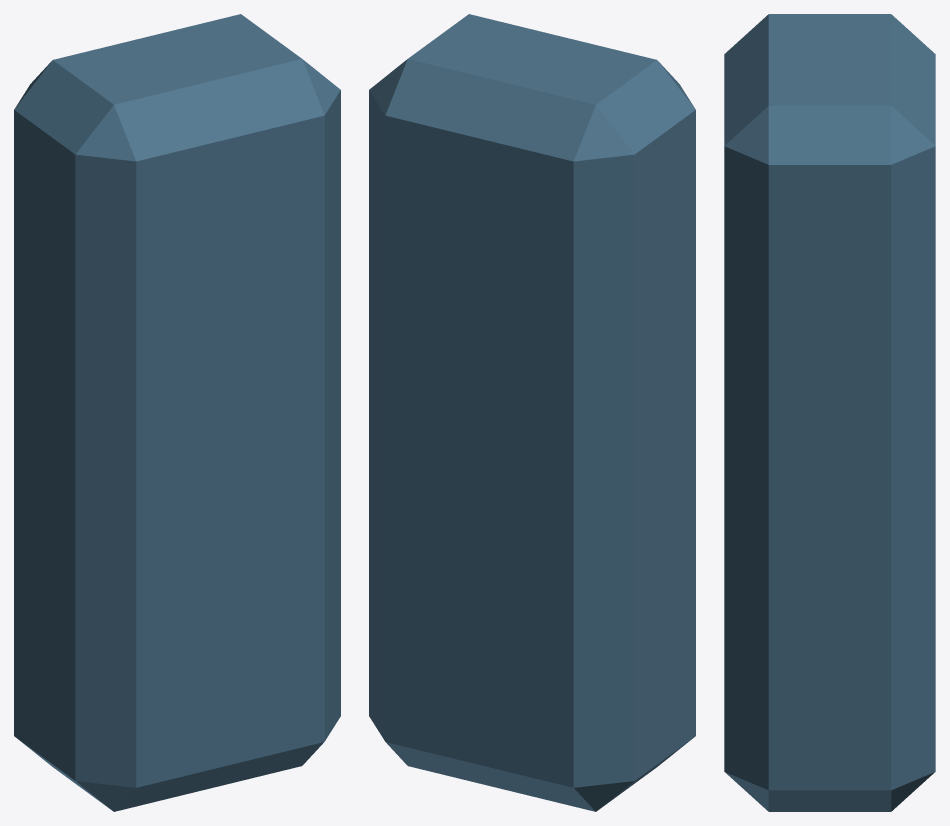
File: cargo_pod.glb
The picture shows the model from 3 angles, left to right: view 1: azimuth 30°, elevation 25°; view 2: azimuth 150°, elevation 25°; view 3: azimuth 270°, elevation 25°; orthographic projection.
Visible parts, largest first — view 1: cargo_pod; view 2: cargo_pod; view 3: cargo_pod.
Part boxes in pixels (x1,y1,x2,y2): cargo_pod: (14, 14, 340, 811); cargo_pod: (369, 14, 695, 811); cargo_pod: (724, 14, 935, 811).
Bounding box in the file's own units: 1.1 × 2.8 × 0.76.
